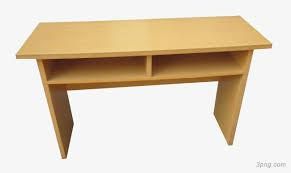desk: (6, 9, 280, 164)
